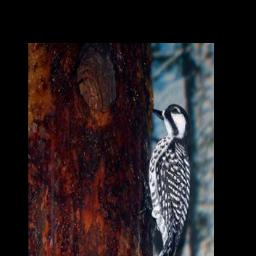Woodpecker: (138, 98, 194, 256)
